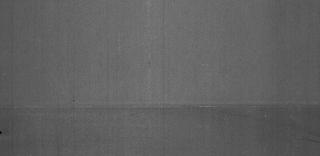welding line: (3, 100, 320, 112)
